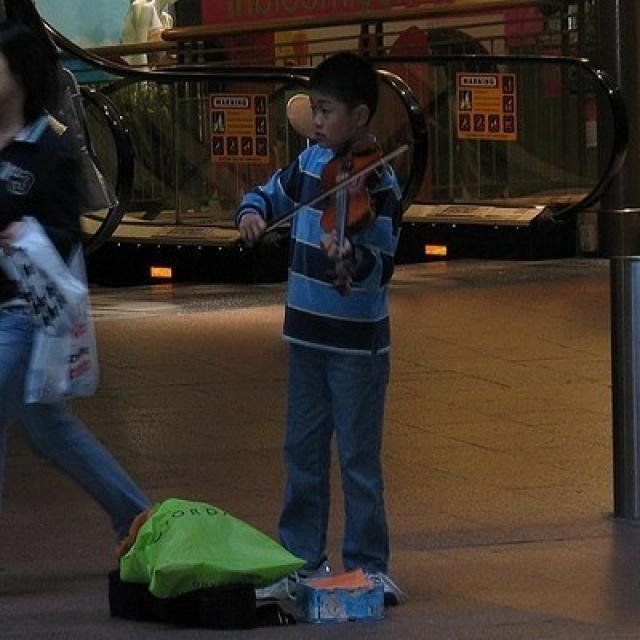violin: (317, 138, 389, 293)
